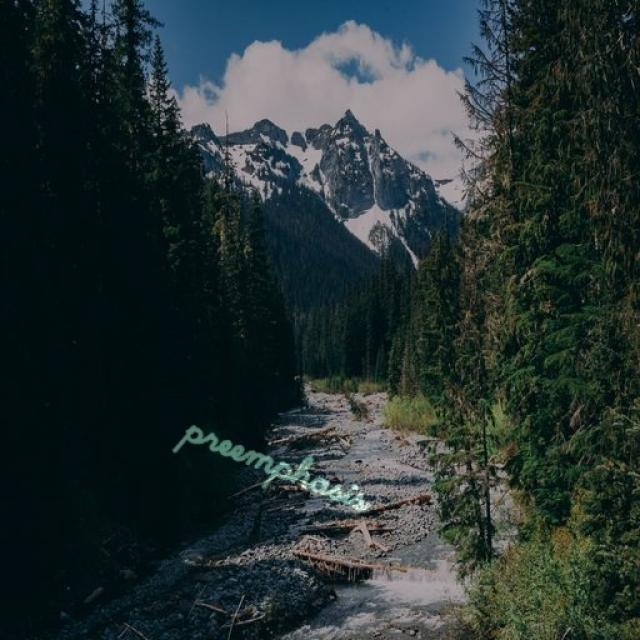watermark: (175, 407, 396, 519)
